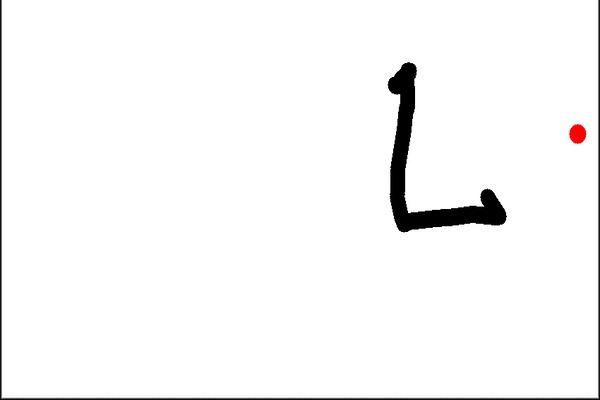L: (371, 54, 516, 240)
